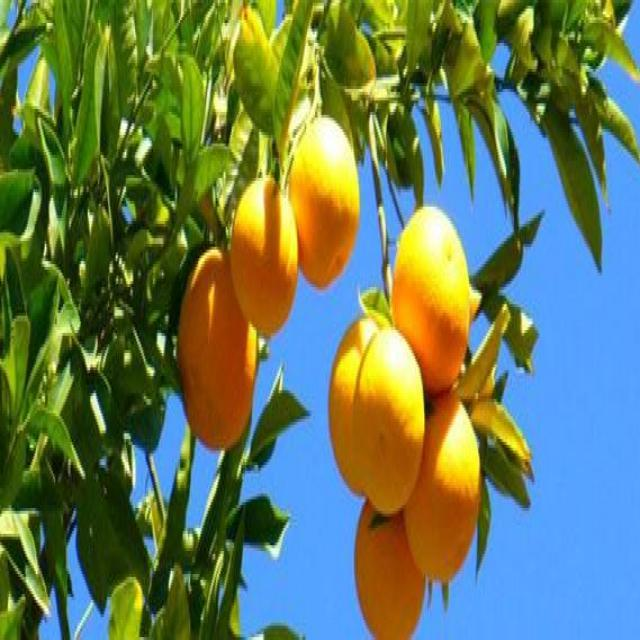Jeruk Sudah Matang: (174, 231, 274, 466), (386, 171, 478, 406), (397, 354, 486, 587), (317, 266, 394, 507), (288, 97, 368, 310), (347, 310, 427, 522), (341, 473, 428, 640), (224, 169, 306, 333)
